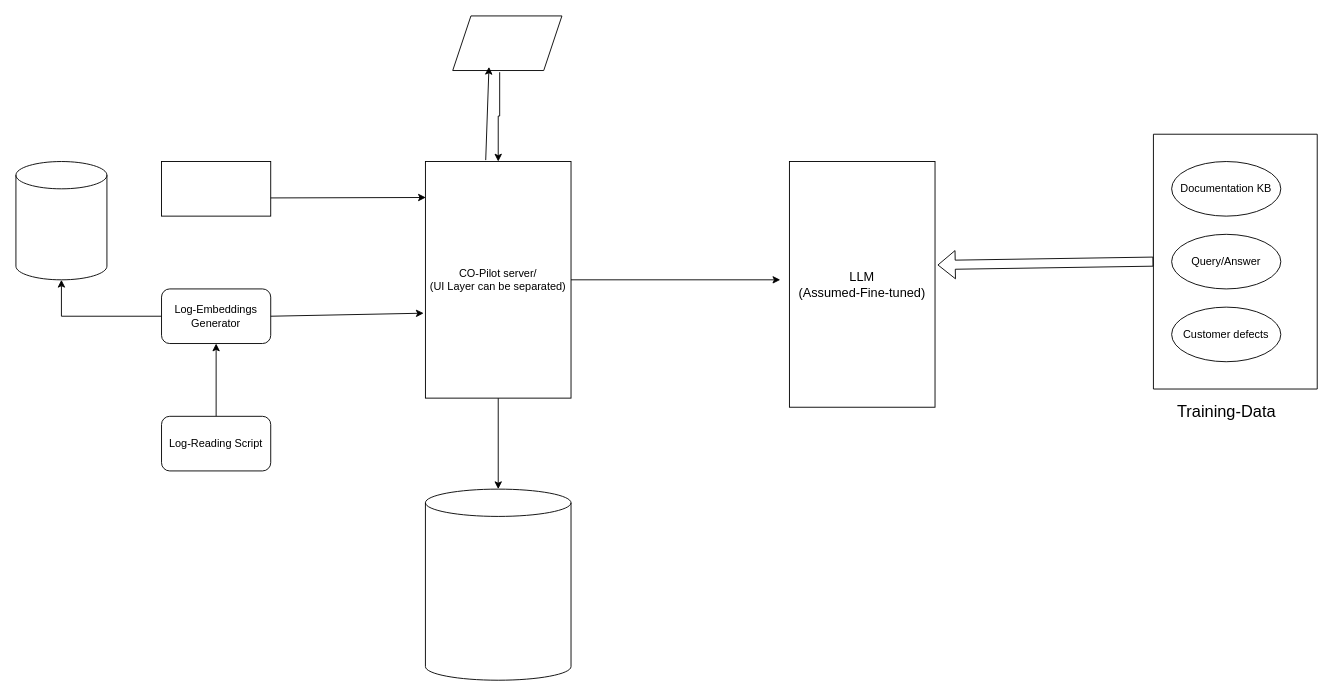
Image size: 1333x696. Some labels were removed from this diagram. The centre of each missing label's shape, as x and y in pixels:
"Cache" goes at point (507, 43).
"Client UI" goes at point (216, 188).
"Elastic Search (Vector Db)" goes at point (61, 220).
"ServerDB -User Data -Recent Logs -PossibleProblems(From vectorDB)" goes at point (498, 584).
